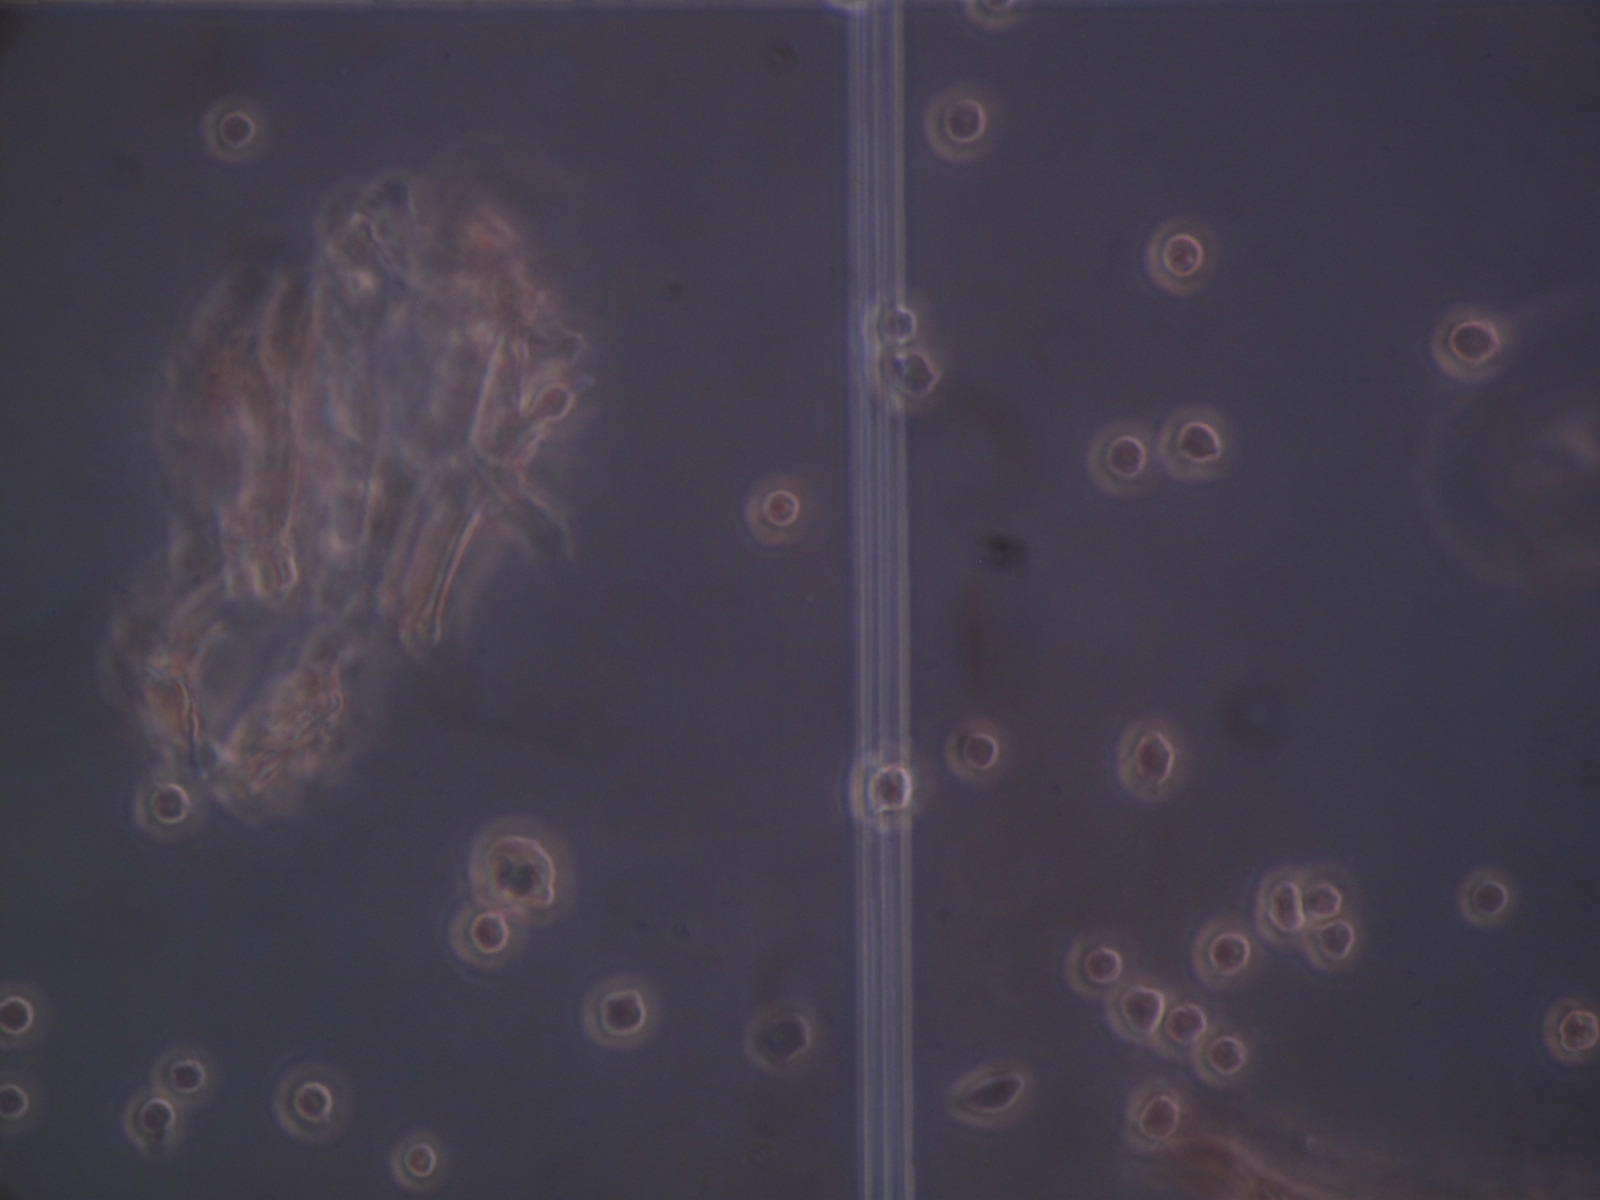hemo: (466, 816, 574, 926), (1430, 301, 1516, 383), (945, 1059, 1036, 1129), (273, 1061, 353, 1142), (1144, 216, 1220, 296), (741, 997, 821, 1071), (447, 897, 529, 971), (1089, 417, 1162, 498), (131, 763, 204, 843), (580, 976, 661, 1047), (847, 751, 916, 834), (1157, 405, 1231, 480), (1117, 716, 1182, 798), (1191, 916, 1262, 989), (866, 345, 942, 413), (923, 84, 989, 163), (746, 474, 813, 545), (1123, 1076, 1184, 1152), (1254, 865, 1308, 950), (1065, 934, 1135, 997), (1104, 978, 1168, 1045), (945, 720, 1009, 785), (1150, 1001, 1216, 1065), (152, 1044, 218, 1107), (202, 98, 261, 166), (1540, 998, 1600, 1064), (123, 1088, 181, 1155), (1303, 858, 1359, 926), (391, 1124, 447, 1191), (862, 294, 929, 347), (1, 979, 50, 1050), (1194, 1025, 1250, 1087), (1455, 871, 1511, 930), (1303, 921, 1361, 974), (1, 1065, 47, 1132), (523, 379, 580, 424), (963, 1, 1015, 30)
